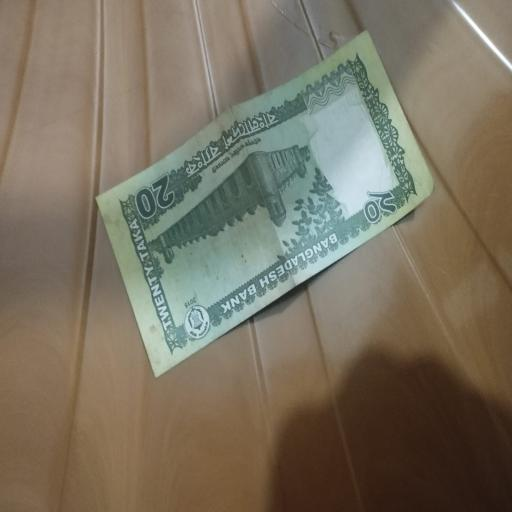20taka: (93, 29, 436, 377)
